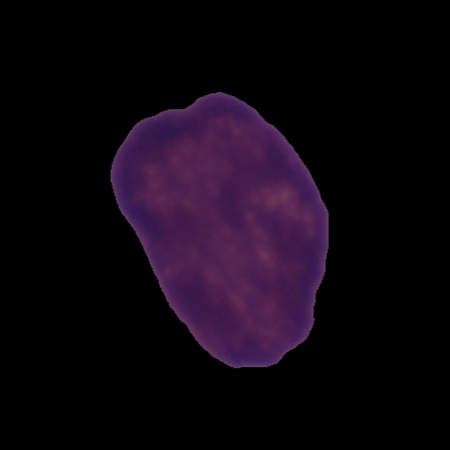ALL: (107, 88, 333, 370)
